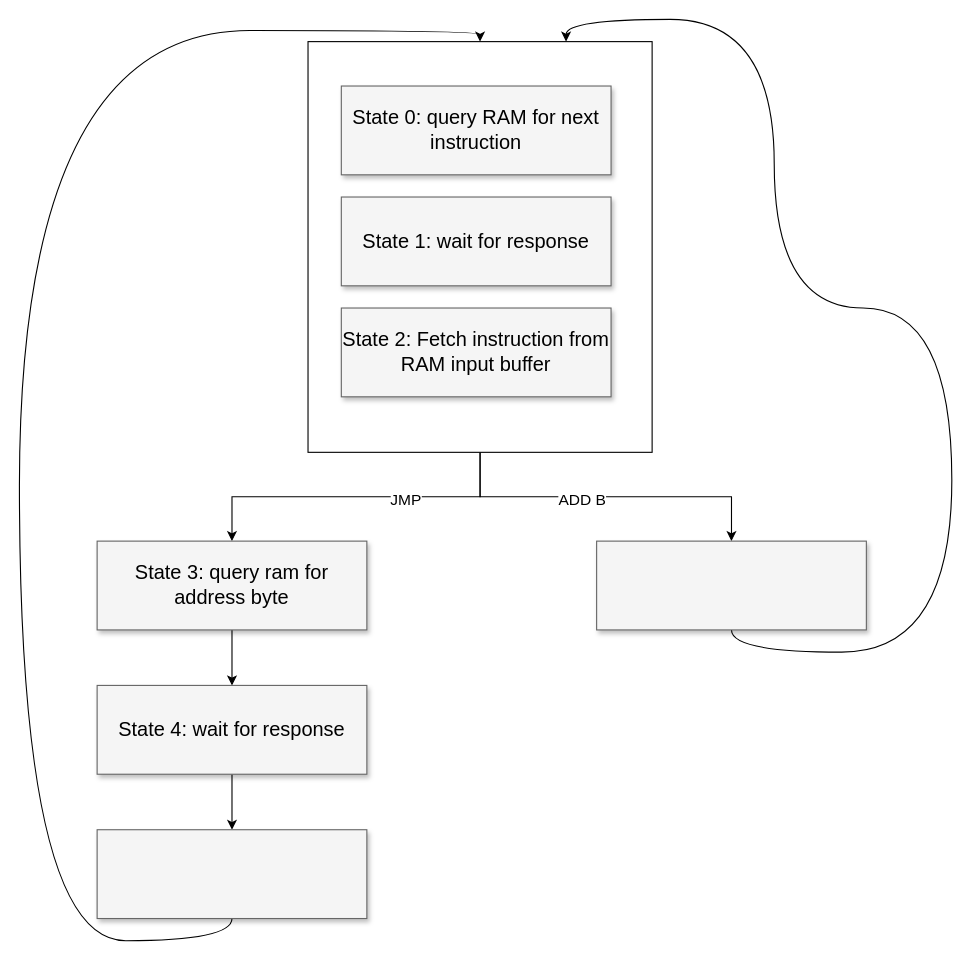
Image size: 971x960. Some labels were removed from this diagram. The centre of each missing label's shape, as x and y in pixels:
"State 3: perform in-register addition, reset state to 0 and increase PC" goes at pixel 732 587.
"State 5: set PC to queried address, reset state to 0" goes at pixel 233 875.
